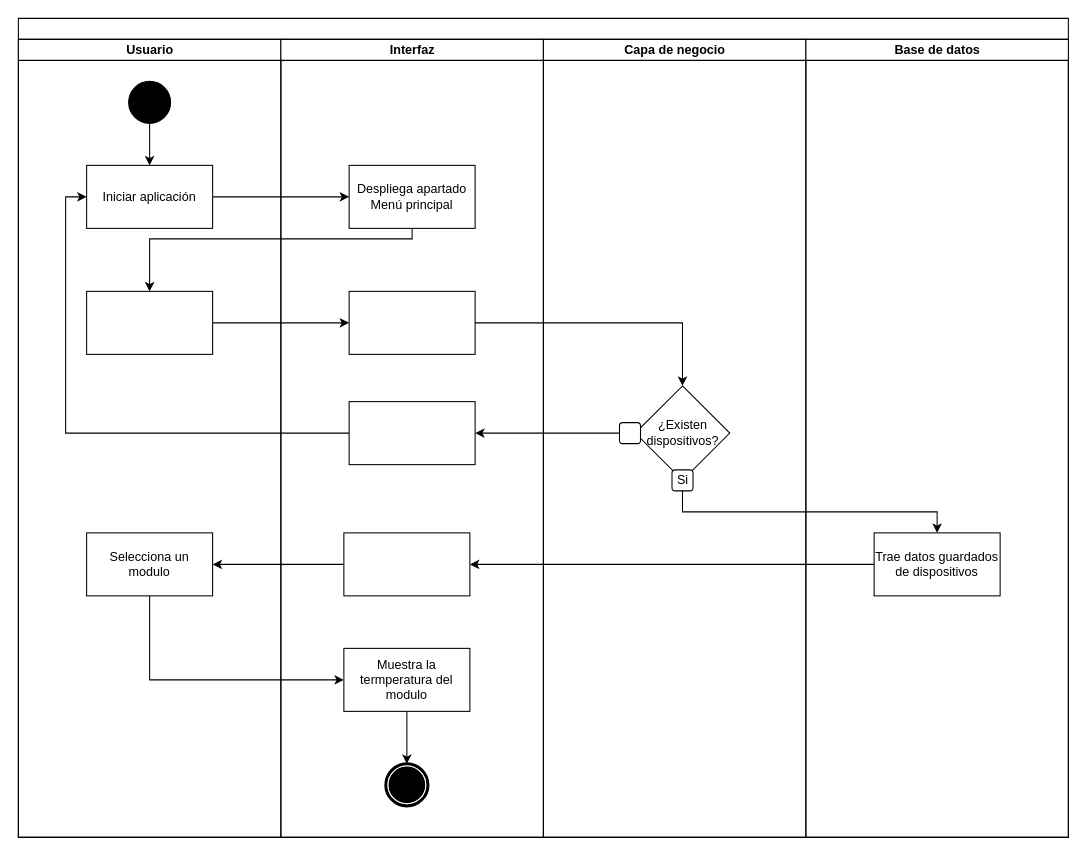
This 1087x856 diagram has some shape labels left out. Each missing label, with the centre of its shape:
"Despliega apartado de diagrama" goes at (x=411, y=322).
"No" goes at (x=629, y=433).
"Notifica diagramas inexistentes" goes at (x=411, y=433).
"Seleccionar diagramas" goes at (x=149, y=322).
"Sistema muestra módulos disponibles" goes at (x=406, y=564).
